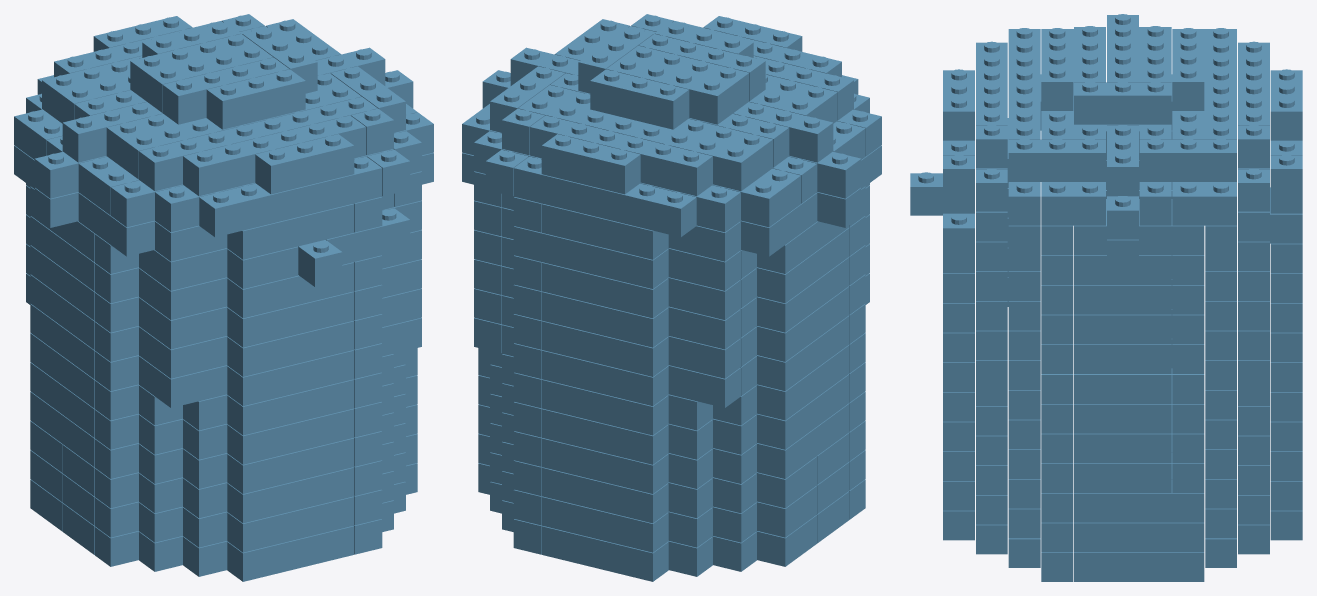
The model's file is 052_birdhouse_L2.glb.
3 renders of one model, left to right at view 1: azimuth 30°, elevation 25°; view 2: azimuth 150°, elevation 25°; view 3: azimuth 270°, elevation 25°, orthographic.
Size of the model in its own units: 12.98 by 15.13 by 11.98.
